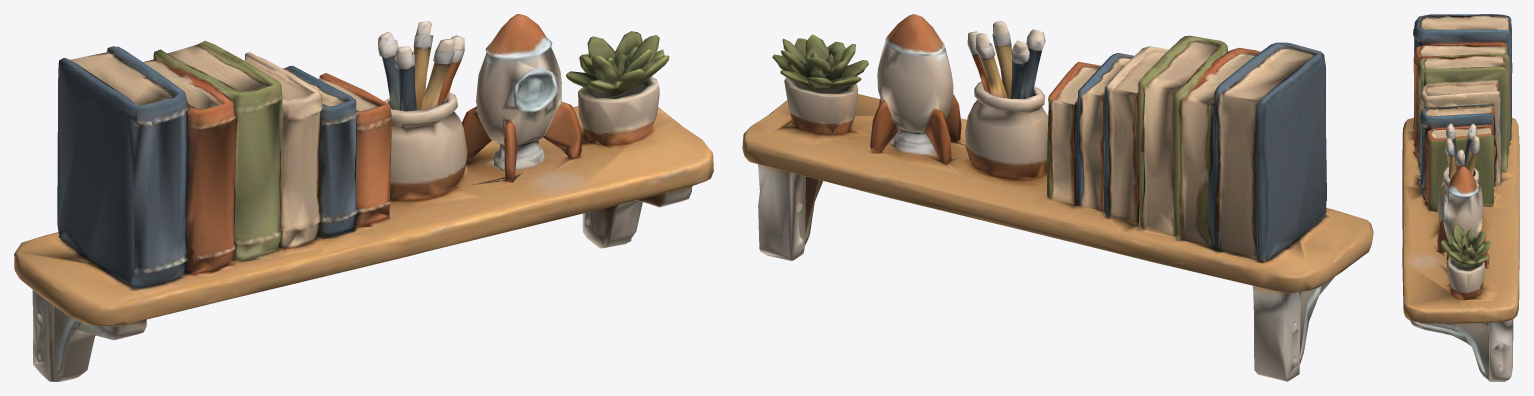
The model's file is wall-shelf.low.glb.
3 renders of one model, left to right at view 1: azimuth 30°, elevation 25°; view 2: azimuth 150°, elevation 25°; view 3: azimuth 270°, elevation 25°, orthographic. The views are drawn at different scales.
Parts seen in each view (by area): view 1: tripo_node_611b1420-b976-47e4-8e1a-0d7e6fac6155; view 2: tripo_node_611b1420-b976-47e4-8e1a-0d7e6fac6155; view 3: tripo_node_611b1420-b976-47e4-8e1a-0d7e6fac6155.
Part boxes in pixels (left/top/right/bottom): tripo_node_611b1420-b976-47e4-8e1a-0d7e6fac6155: left=14, top=14, right=713, bottom=381; tripo_node_611b1420-b976-47e4-8e1a-0d7e6fac6155: left=742, top=14, right=1373, bottom=381; tripo_node_611b1420-b976-47e4-8e1a-0d7e6fac6155: left=1402, top=14, right=1519, bottom=381.
Bounding box in the file's own units: 1.2 × 0.5591 × 0.2999.
Materials: 1 (1 with a texture image).
